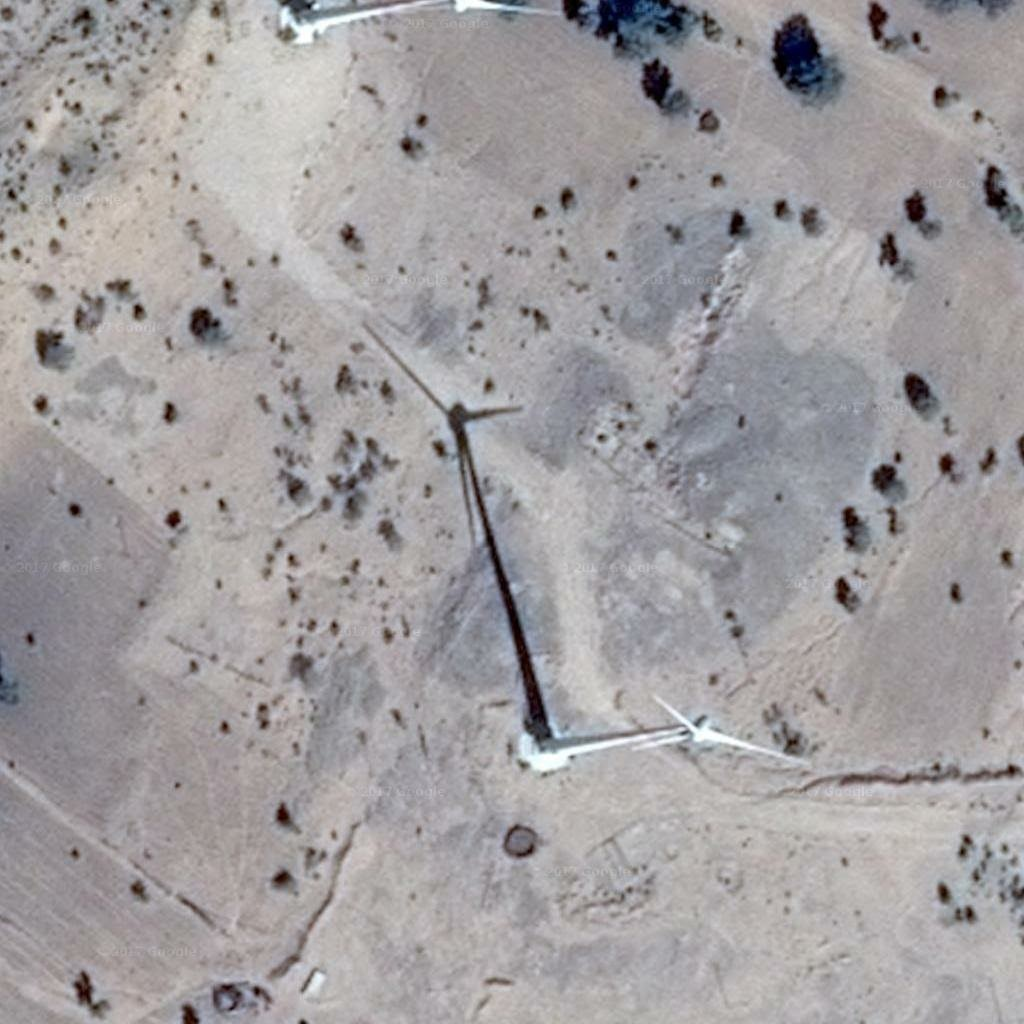Windmill: (349, 317, 553, 605)
